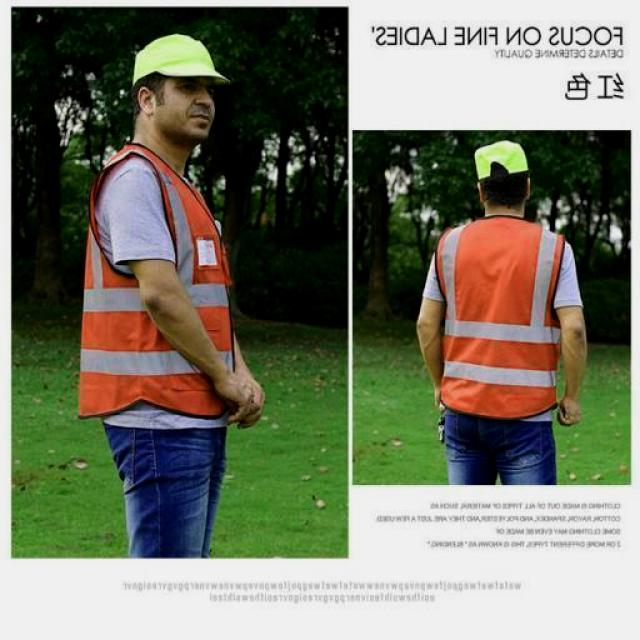face_nomask: (171, 77, 224, 128)
hand_noglove: (216, 363, 272, 428), (551, 387, 583, 431)
head_nohelmet: (134, 33, 228, 86), (468, 137, 530, 184)
person: (69, 29, 263, 560), (422, 140, 583, 484)
vest: (70, 150, 246, 425), (430, 218, 580, 422)
